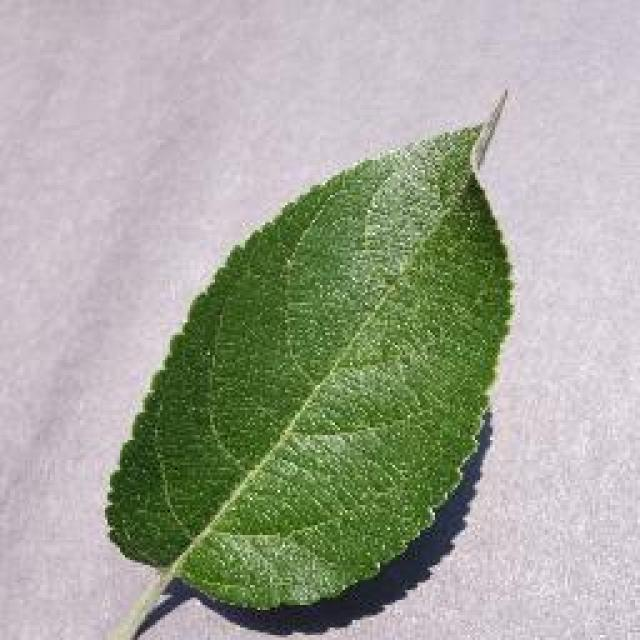apple healthy: (95, 85, 517, 635)
